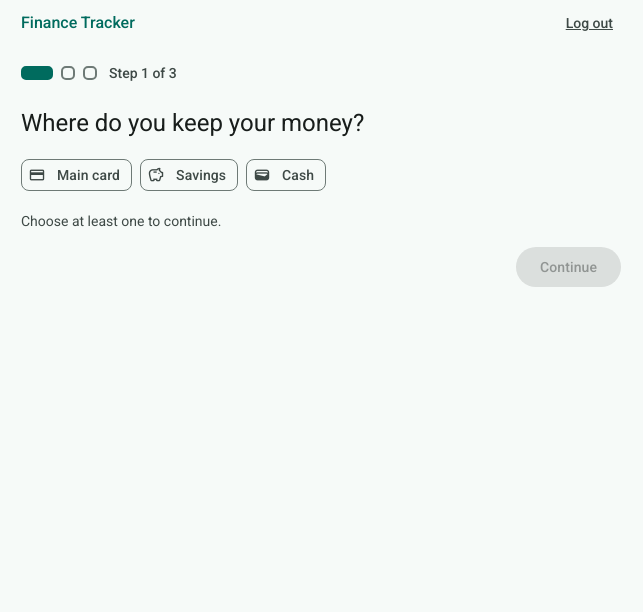
Test case: OnboardingComponent › step 1: accounts › creates the accounts and moves to step 2 with focus on its heading
The width and height of the screenshot is (643, 612).
Click the option "Main card" at (77,175), box [21, 159, 132, 191]
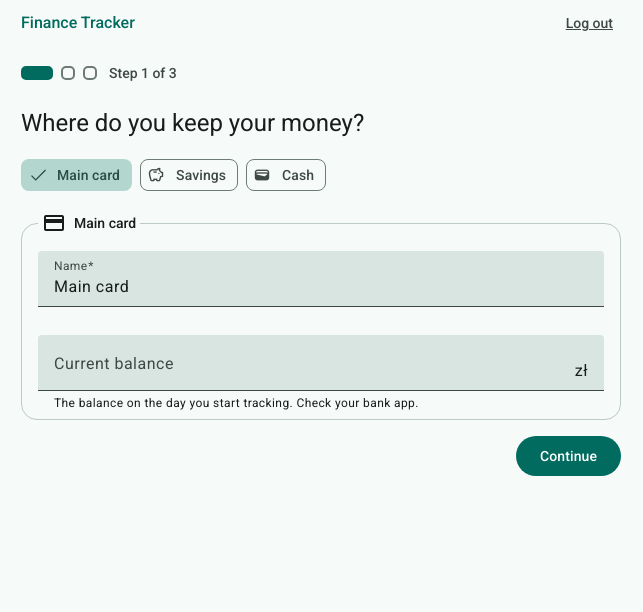
Replace the text in the field labelled "Name" with "mBank card" at (321,287), box [54, 275, 588, 299]
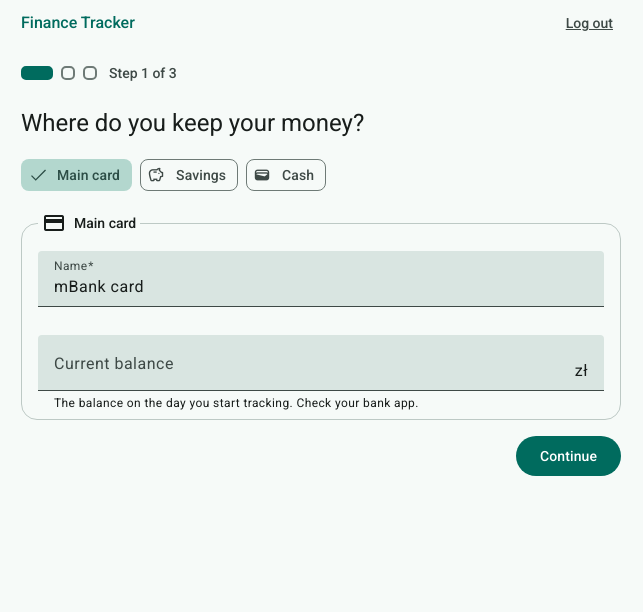
Type "2 340,15" into the field labelled "Current balance" at (312,371), box [54, 359, 570, 383]
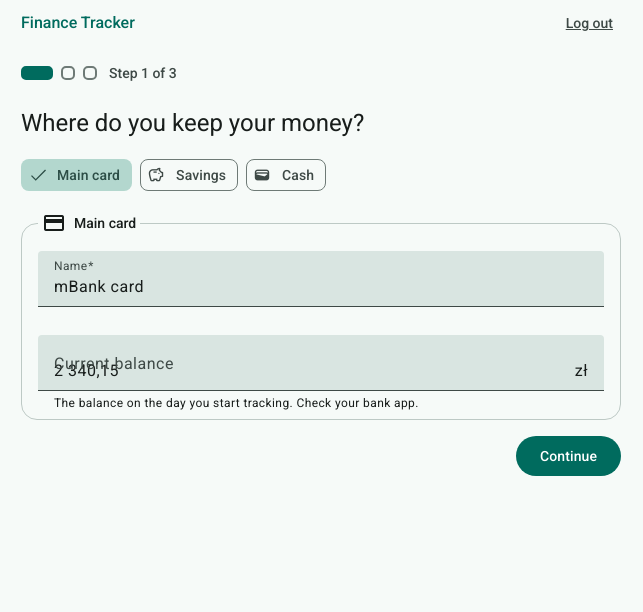
Click the button "Continue" at (568,456), box [516, 436, 621, 476]
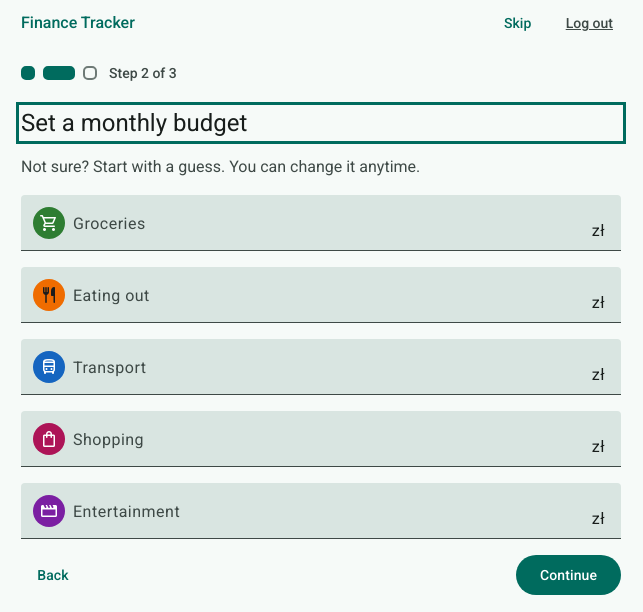
Expected: the heading "Set a monthly budget" is shown, [21, 109, 247, 137]
